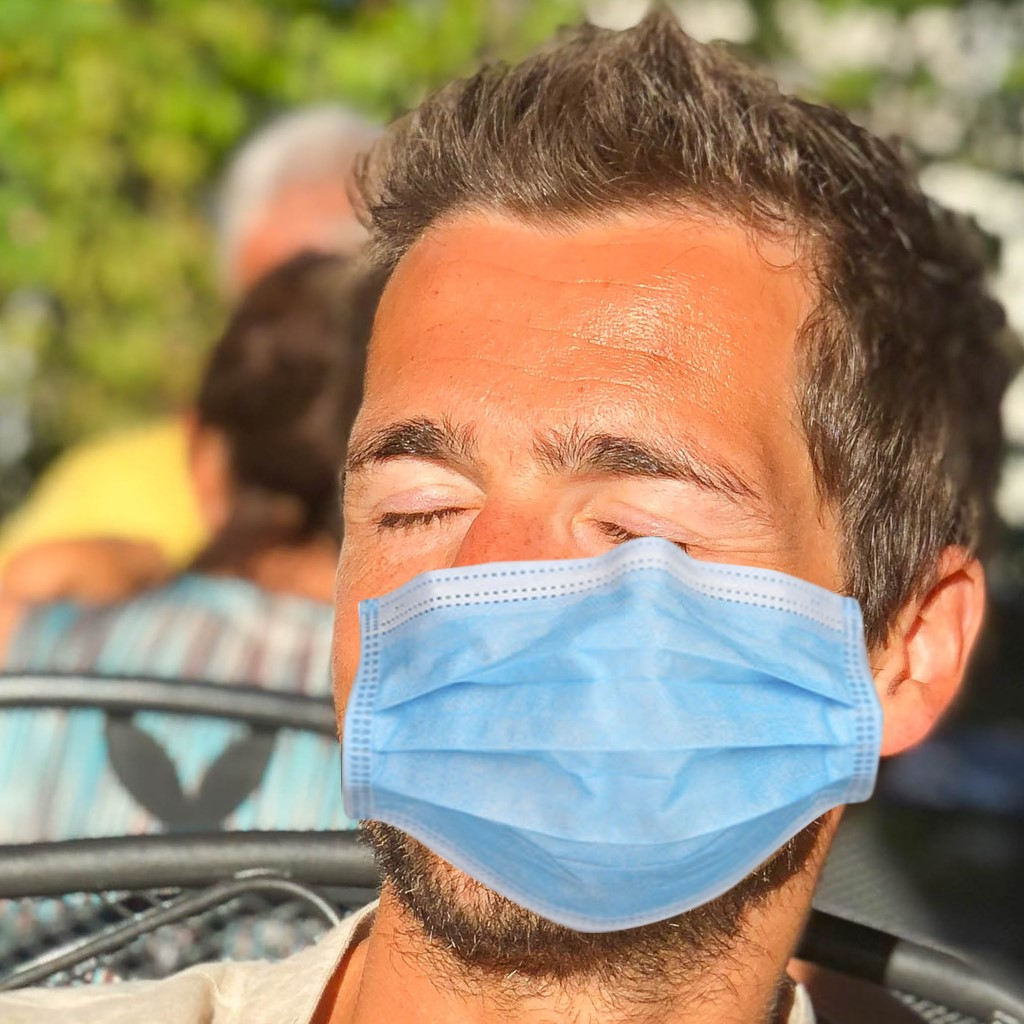con_mascara: (352, 170, 872, 968)
